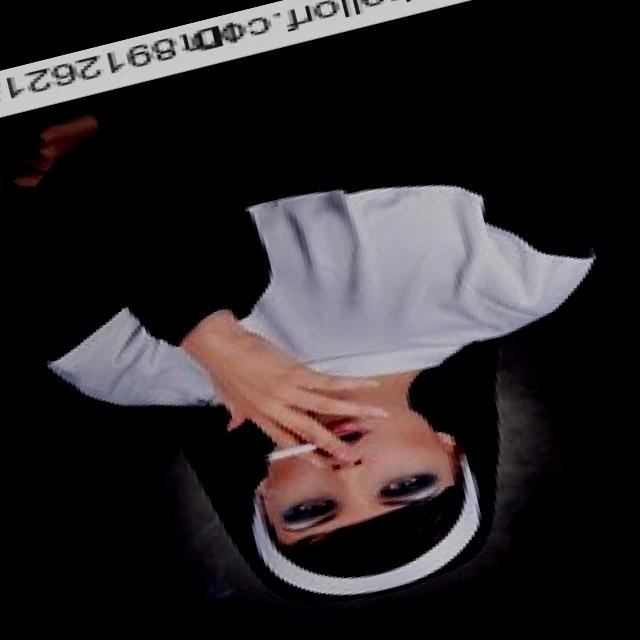smoke: (256, 433, 328, 466)
